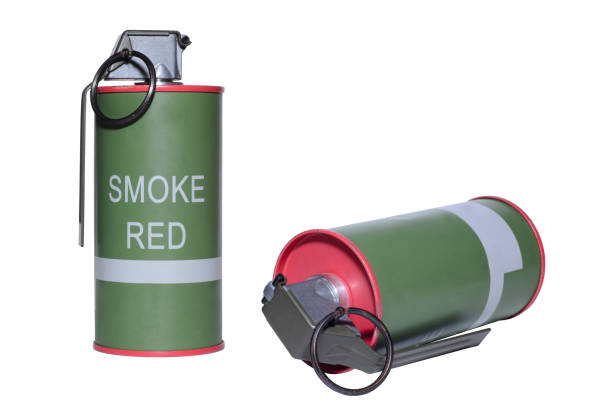e1: (263, 195, 546, 394), (74, 28, 228, 364)
